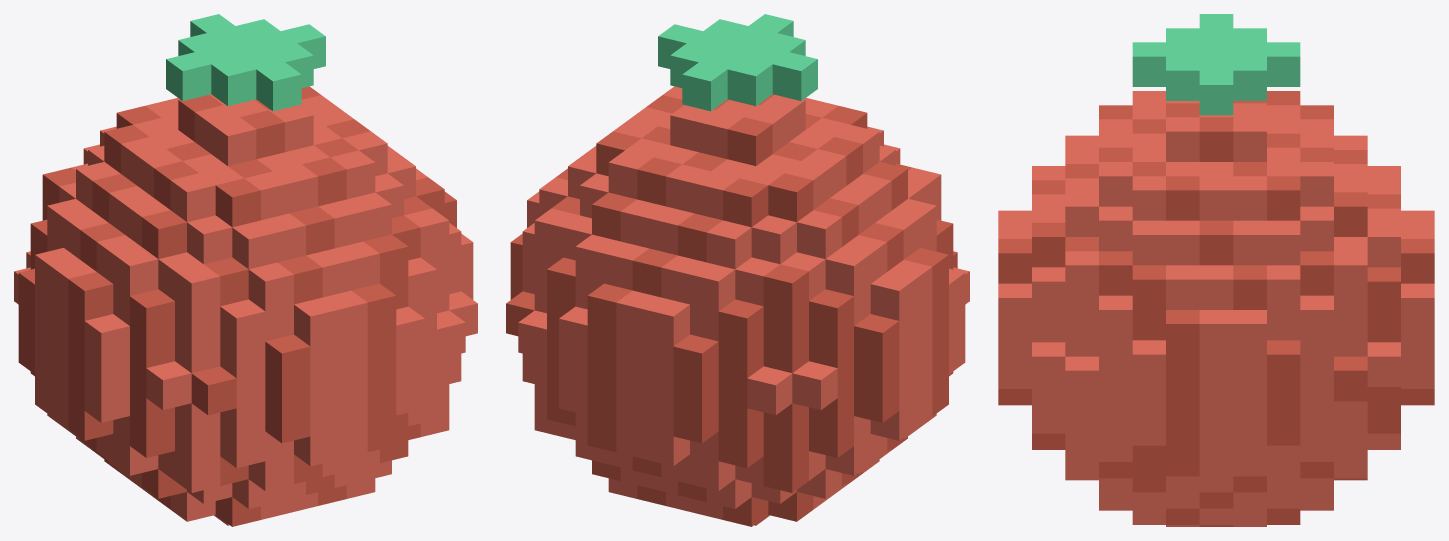
File: tomato.glb
The picture shows the model from 3 angles, left to right: view 1: azimuth 30°, elevation 25°; view 2: azimuth 150°, elevation 25°; view 3: azimuth 270°, elevation 25°; orthographic projection.
Bounding box in the file's own units: 1.3 × 1.5 × 1.3.
